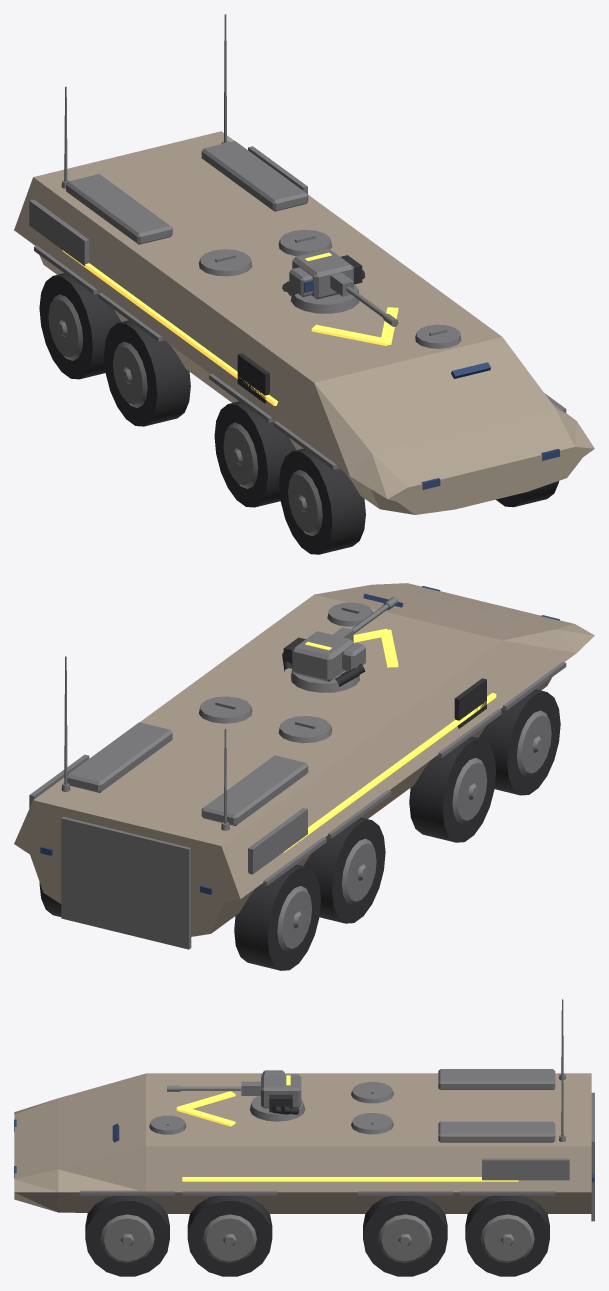
Rendered from apc_red.glb.
The picture shows the model from 3 angles, top to bottom: view 1: azimuth 30°, elevation 25°; view 2: azimuth 150°, elevation 25°; view 3: azimuth 270°, elevation 25°; orthographic projection. The views are drawn at different scales.
Visible parts, largest first — view 1: body, turret, gun; view 2: body, turret, gun; view 3: body, turret, gun.
Boxes of the visible parts, x1,y1,x2,y2 form: body: (14, 14, 594, 554); turret: (282, 249, 365, 313); gun: (330, 272, 398, 326); body: (14, 583, 594, 970); turret: (282, 631, 365, 692); gun: (332, 597, 398, 642); body: (14, 999, 594, 1276); turret: (249, 1070, 304, 1121); gun: (167, 1081, 260, 1095).
Bounding box in the file's own units: 3.01 × 3.45 × 7.95.
